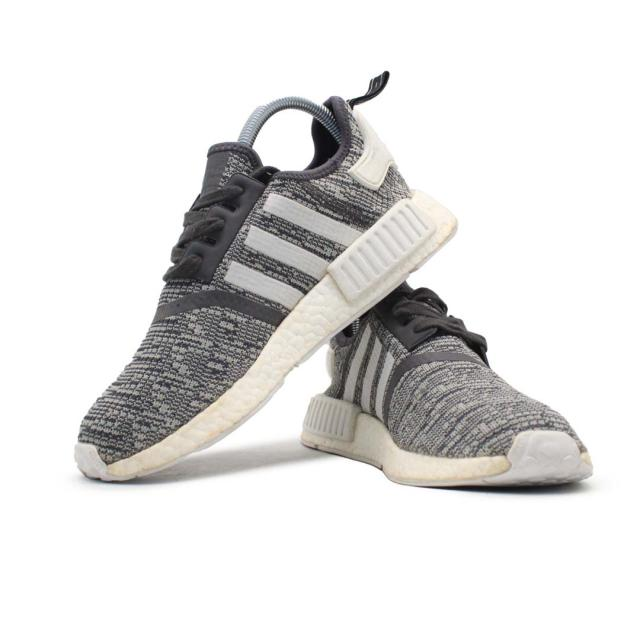heel: (322, 91, 412, 237)
midsole: (72, 189, 457, 480), (296, 396, 589, 490)
uppersole: (74, 139, 361, 465), (340, 283, 583, 458)
